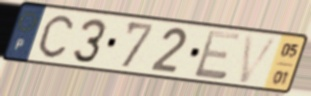2: (148, 26, 192, 76)
3: (71, 17, 109, 65)
7: (120, 19, 158, 70)
C: (37, 13, 75, 60)
E: (192, 28, 244, 82)
V: (236, 33, 282, 86)
